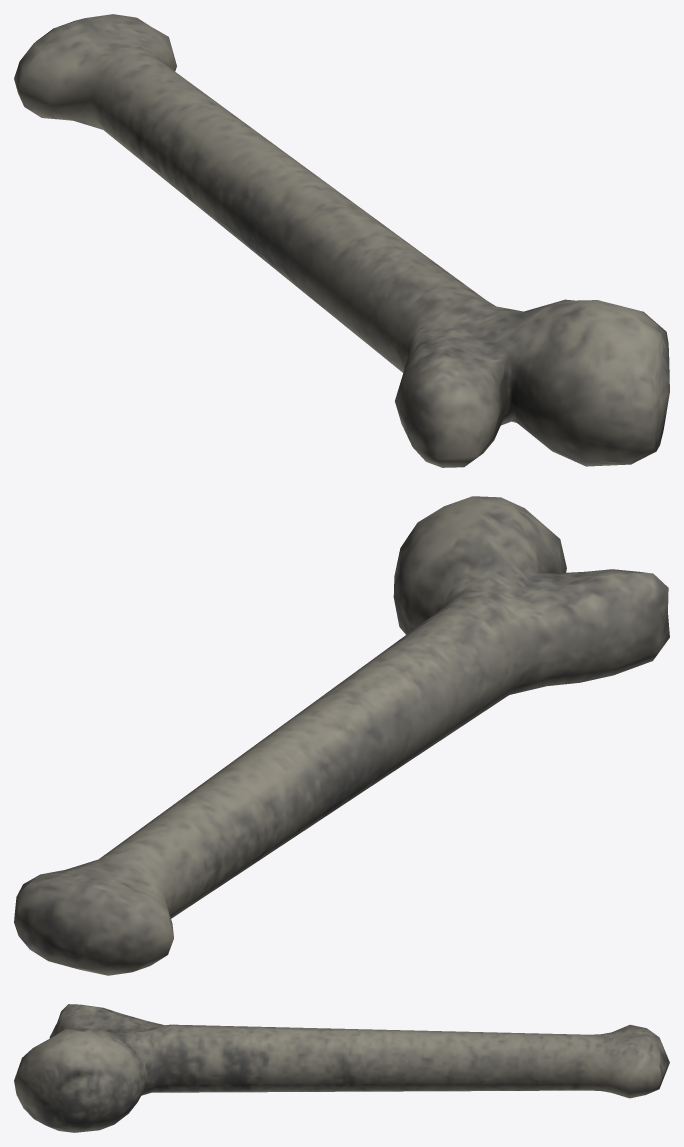
The model's file is MarshBone_01a.fbx.
The picture shows the model from 3 angles, top to bottom: view 1: azimuth 30°, elevation 25°; view 2: azimuth 150°, elevation 25°; view 3: azimuth 270°, elevation 25°; orthographic projection. The views are drawn at different scales.
Parts seen in each view (by area): view 1: Bone_01a; view 2: Bone_01a; view 3: Bone_01a.
Boxes of the visible parts, bbox=[...] form: Bone_01a: bbox=[14, 14, 669, 467]; Bone_01a: bbox=[14, 496, 669, 975]; Bone_01a: bbox=[14, 1004, 669, 1132].
Bounding box in the file's own units: 27.82 × 15.86 × 98.36.
